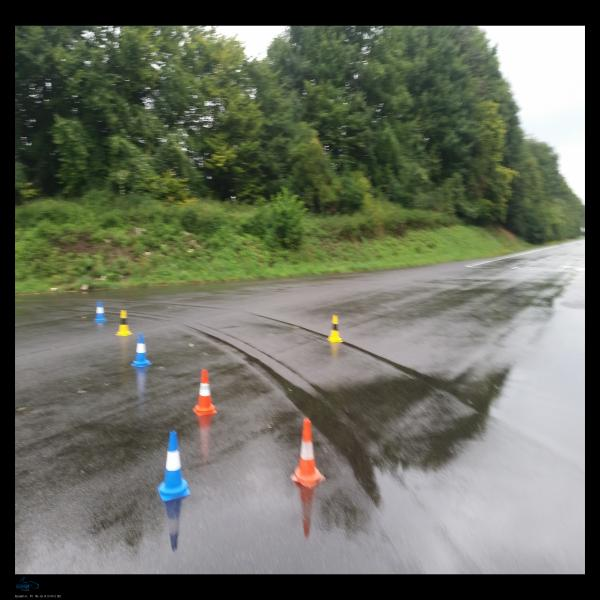blue_cone: (158, 430, 190, 502), (130, 334, 153, 367), (94, 302, 108, 322)
orange_cone: (291, 418, 325, 489), (193, 369, 217, 416)
yellow_cone: (115, 310, 133, 336), (327, 315, 344, 342)
